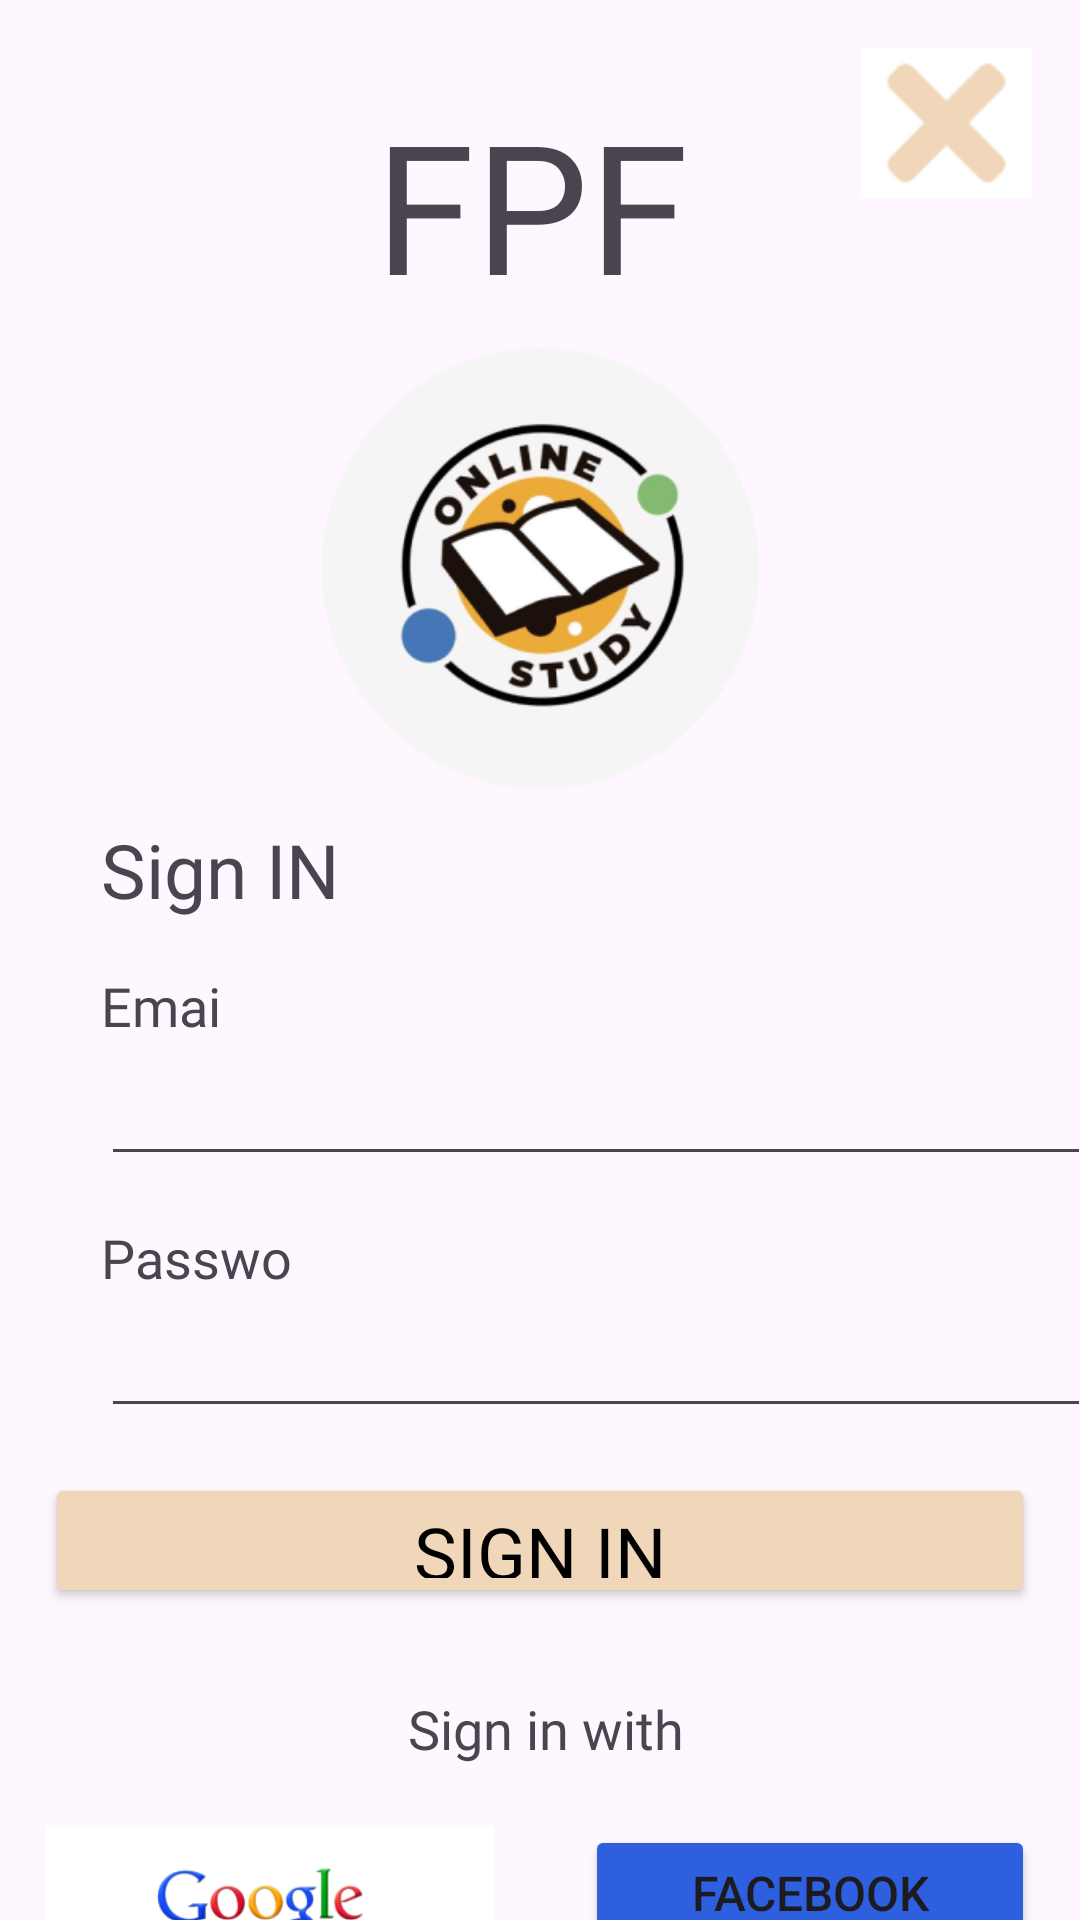

Where to tap for icons on this 1080×1920 app screen, as (x,y):
cross: (946,123)
